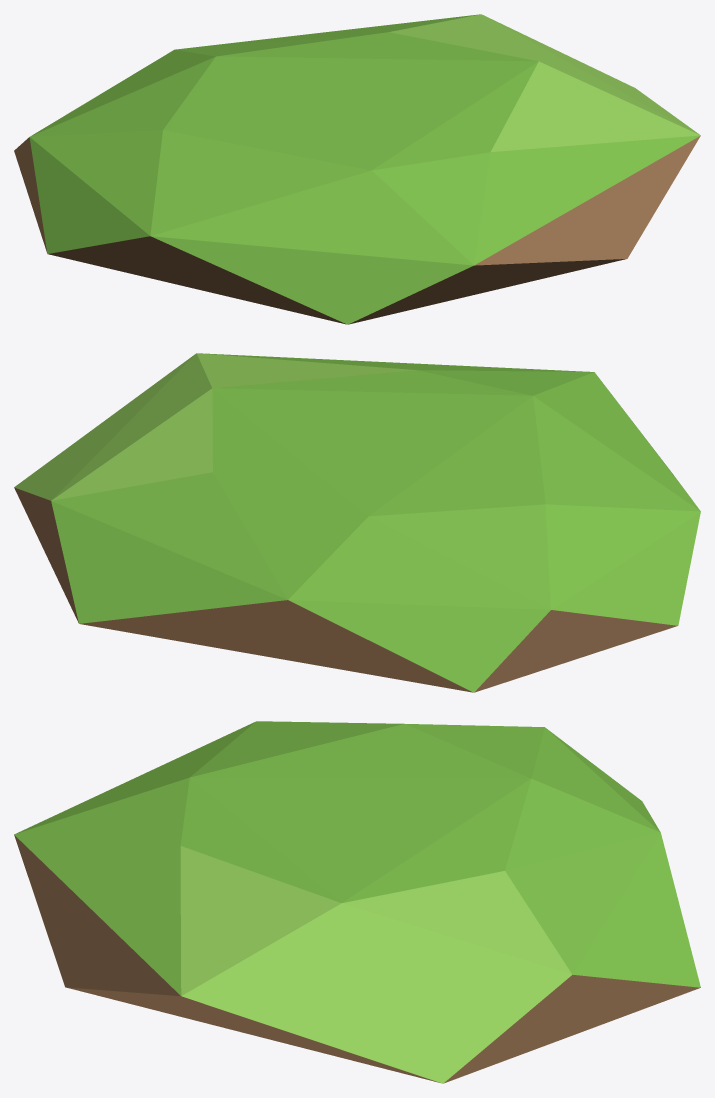
The model's file is rock_smallFlatB.glb.
The picture shows the model from 3 angles, top to bottom: view 1: azimuth 30°, elevation 25°; view 2: azimuth 150°, elevation 25°; view 3: azimuth 270°, elevation 25°; orthographic projection. The views are drawn at different scales.
Parts seen in each view (by area): view 1: rock_smallFlatB; view 2: rock_smallFlatB; view 3: rock_smallFlatB.
Part boxes in pixels (x1=…): rock_smallFlatB: x1=14, y1=14, x2=700, y2=324; rock_smallFlatB: x1=14, y1=353, x2=700, y2=692; rock_smallFlatB: x1=14, y1=721, x2=700, y2=1083.
Bounding box in the file's own units: 0.3937 × 0.0588 × 0.351.
1 material, 1 textured.
